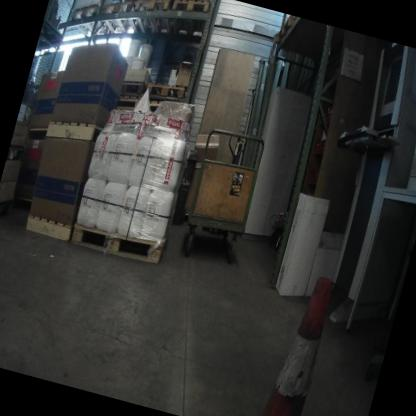pallet: (61, 206, 177, 280), (263, 11, 339, 64), (113, 88, 183, 132), (63, 0, 121, 52), (93, 0, 151, 51), (125, 0, 182, 47), (164, 0, 219, 44), (43, 112, 107, 149), (102, 71, 149, 110), (21, 213, 74, 247), (146, 73, 194, 105), (21, 114, 53, 154), (0, 191, 16, 230), (7, 144, 23, 162)
stillage: (22, 28, 66, 115), (39, 0, 79, 48)
